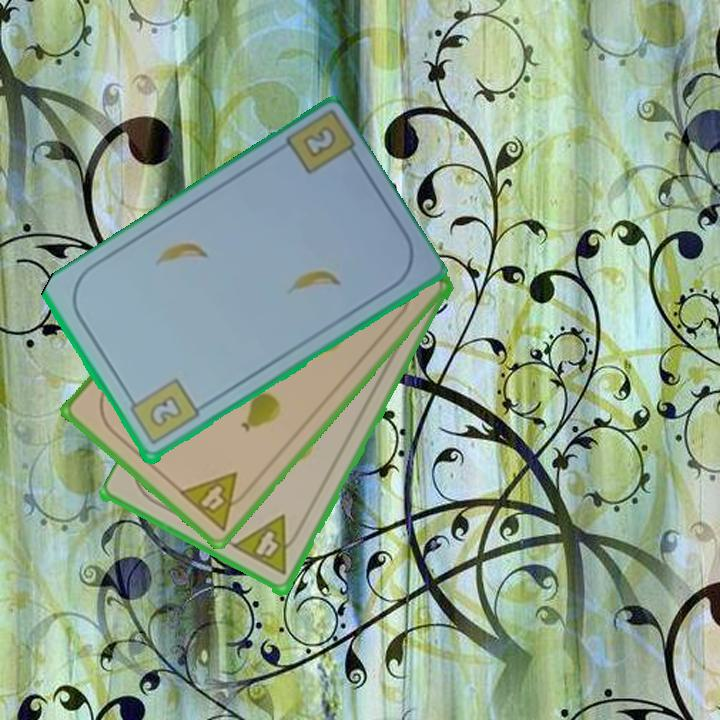2b: (123, 375, 202, 449), (299, 122, 340, 162)
4p: (175, 468, 256, 535), (230, 512, 306, 579)
